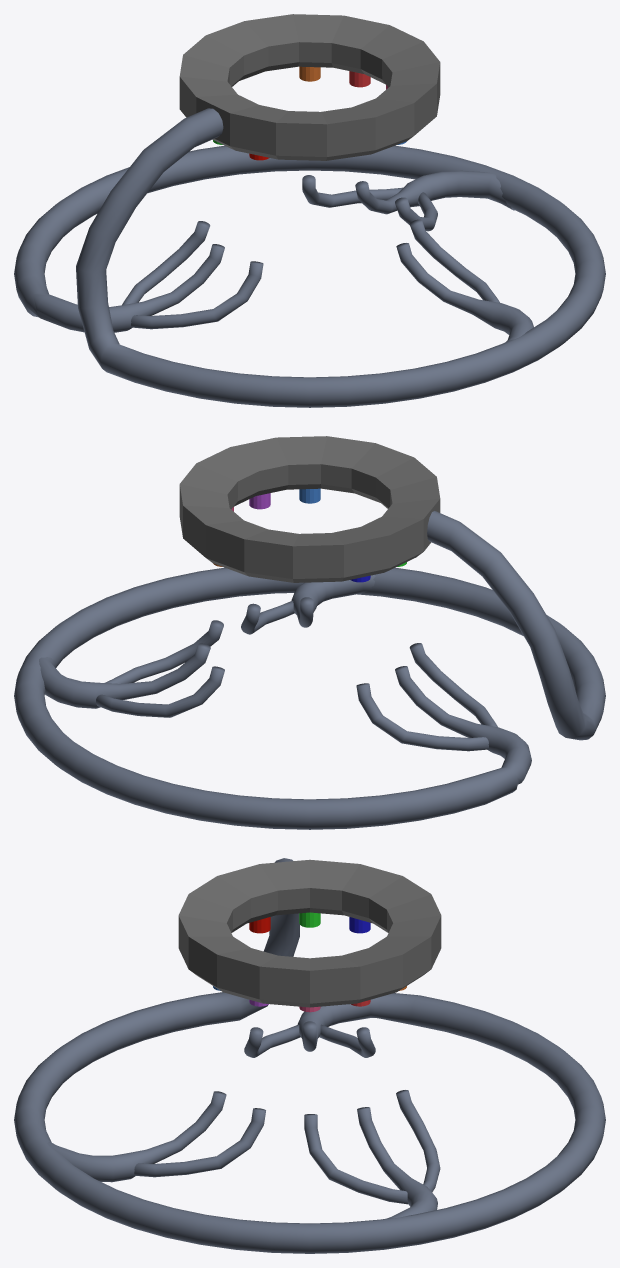
The model's file is Tubes 1.fbx.
3 views of the same model, one above another, from view 1: azimuth 30°, elevation 25°; view 2: azimuth 150°, elevation 25°; view 3: azimuth 270°, elevation 25° (orthographic).
Visible parts, largest first — view 1: Cylinder.006; view 2: Cylinder.006; view 3: Cylinder.006.
Part boxes in pixels (bbox=[...]): Cylinder.006: bbox=[14, 14, 605, 407]; Cylinder.006: bbox=[14, 436, 605, 829]; Cylinder.006: bbox=[14, 858, 605, 1253].
Bounding box in the file's own units: 3494 × 3551 × 1454.
